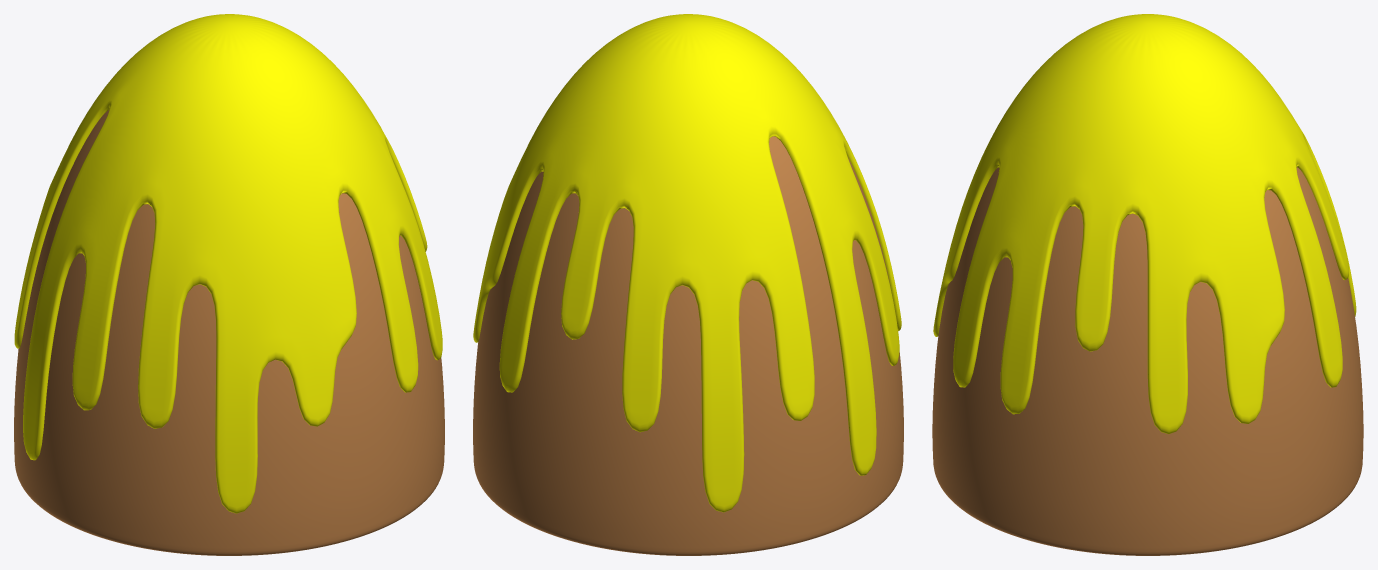
The model's file is hill3.fbx.
3 renders of one model, left to right at view 1: azimuth 30°, elevation 25°; view 2: azimuth 150°, elevation 25°; view 3: azimuth 270°, elevation 25°, orthographic.
Parts seen in each view (by area): view 1: Sphere.001; view 2: Sphere.001; view 3: Sphere.001.
Part boxes in pixels (bbox=[...]): Sphere.001: bbox=[14, 14, 444, 555]; Sphere.001: bbox=[473, 14, 903, 555]; Sphere.001: bbox=[932, 14, 1363, 555].
Size of the model in its own units: 1079 by 1212 by 1068.
